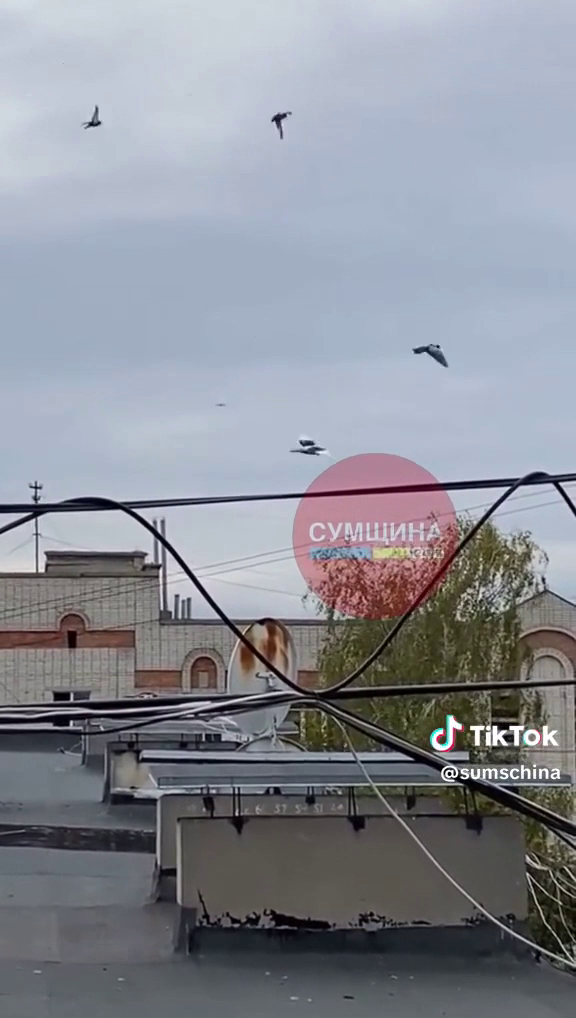not_drone: (278, 431, 344, 464), (404, 335, 456, 372), (262, 100, 298, 144), (75, 100, 111, 138)
